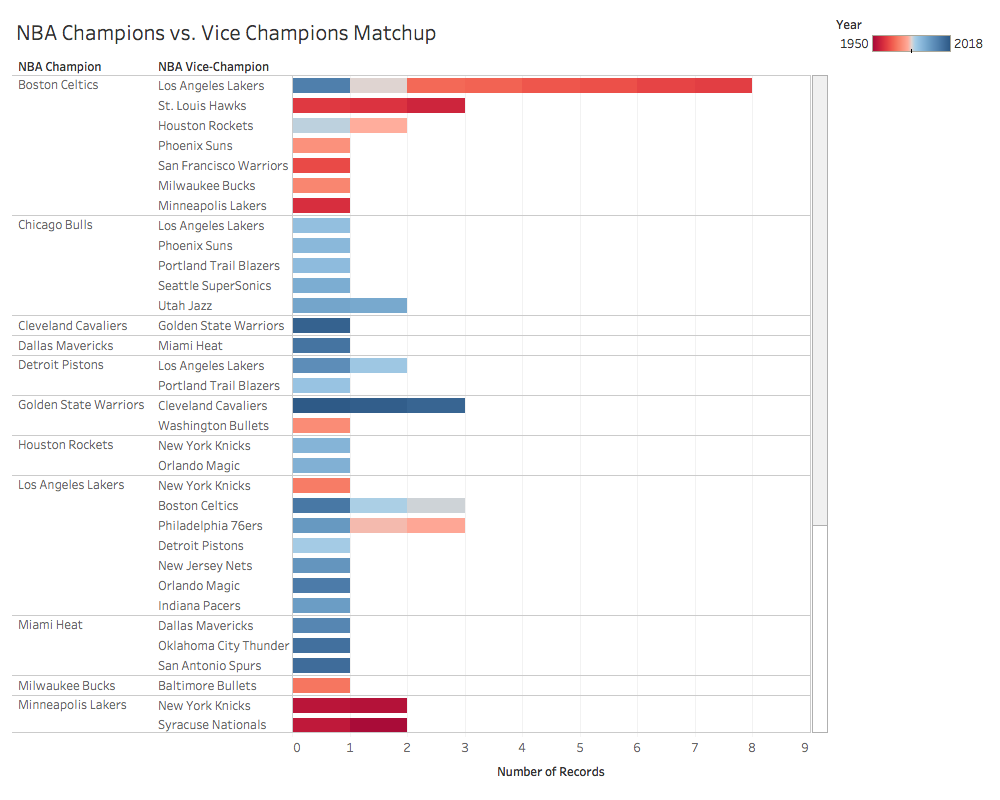

The dashboard page shown, as its layout file describes it:
{"tool":"tableau","page":{"name":"Dashboard 1","canvas":[1000,800],"ordinal":0},"visuals":[{"type":"worksheet","title":"Sheet 1","mark":"Automatic","rows":["Team"],"cols":[" Total Attendance"],"box":[8,8,824,784]},{"type":"legend","title":"Sheet 1","param":"[federated.00uhm0e1355ta71ero8c80fyin8d].[none:Starting Year:qk]","box":[832,8,160,65]}]}

Visuals, with their boxes in screenshot pixels (x1, y1, x2, y2), scaled from the page's 1000x800 canvas onto the 1000x800 screenshot:
"Sheet 1" worksheet: bbox=[8, 8, 832, 792]
"Sheet 1" legend: bbox=[832, 8, 992, 73]
